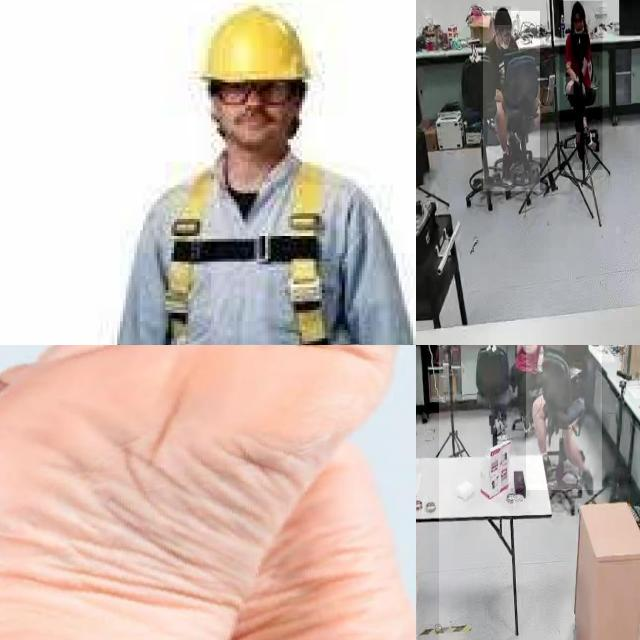Barefoots: (0, 345, 416, 640), (0, 345, 402, 640)
Harness: (161, 160, 363, 345)
face_nomask: (573, 15, 583, 32)
hand_noglove: (564, 77, 574, 95), (578, 79, 586, 100)
head_nohelmet: (493, 6, 511, 26), (570, 1, 584, 13)
person: (525, 345, 602, 491), (483, 11, 541, 192), (559, 1, 603, 171), (500, 345, 543, 396)
